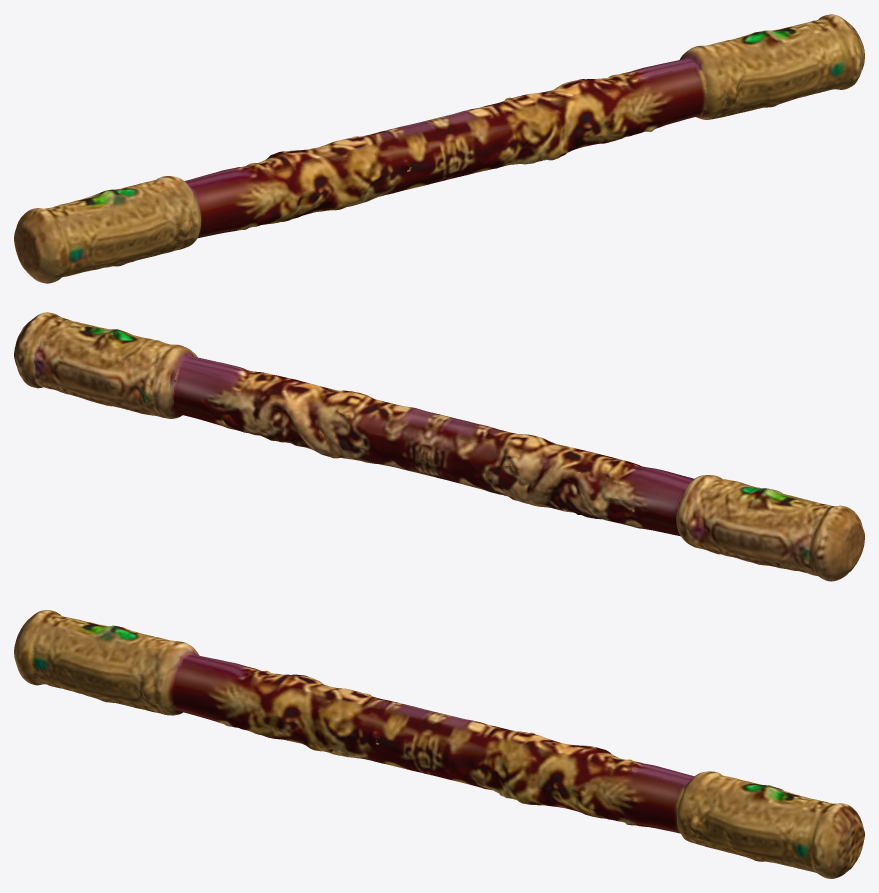
Rendered from ruyi-staff.glb.
The picture shows the model from 3 angles, top to bottom: view 1: azimuth 30°, elevation 25°; view 2: azimuth 150°, elevation 25°; view 3: azimuth 330°, elevation 25°; orthographic projection.
Parts seen in each view (by area): view 1: geometry_0; view 2: geometry_0; view 3: geometry_0.
Part boxes in pixels (box(x1,y1,x2,y2)): geometry_0: box(14, 14, 864, 283); geometry_0: box(14, 312, 864, 581); geometry_0: box(14, 610, 864, 878).
Size of the model in its own units: 0.38 by 0.0316 by 0.0354.
Materials: 1 (1 with a texture image).
